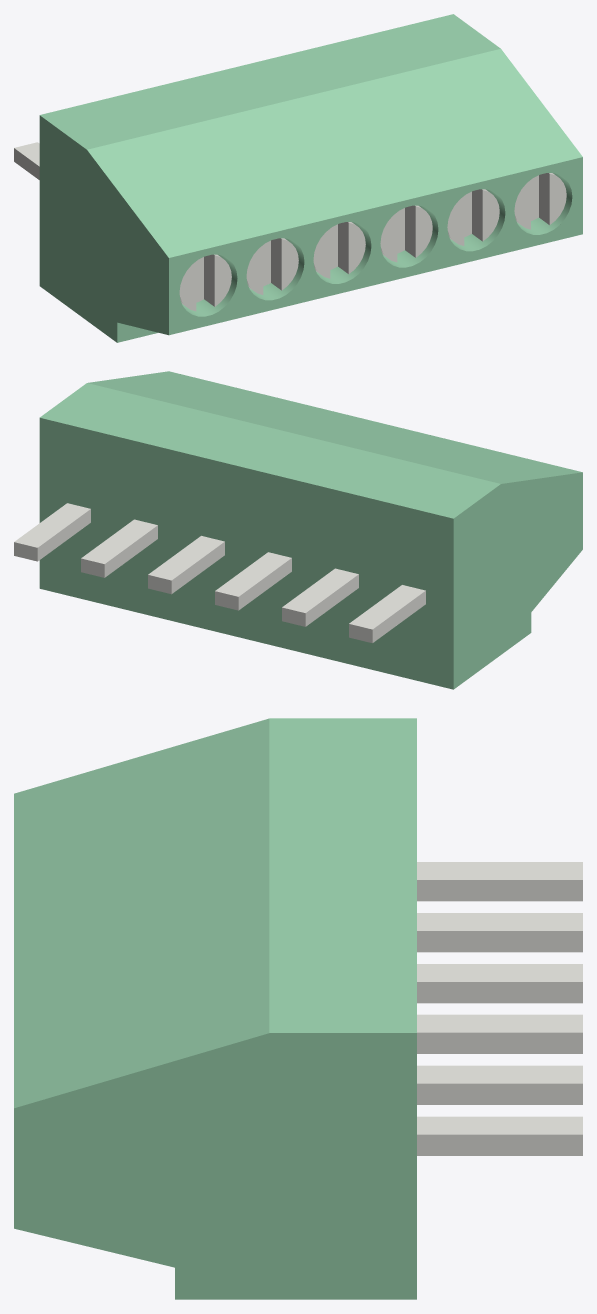
File: TerminalBlock_Phoenix_MPT-0,5-6-2.54_1x06_P2.54mm_Horizontal.glb
3 views of the same model, one above another, from view 1: azimuth 30°, elevation 25°; view 2: azimuth 150°, elevation 25°; view 3: azimuth 270°, elevation 25° (orthographic). The views are drawn at different scales.
Visible parts, largest first — view 1: Shape_IndexedFaceSet.056, Shape_IndexedFaceSet.004, Shape_IndexedFaceSet.002, Shape_IndexedFaceSet.055, Shape_IndexedFaceSet.088, Shape_IndexedFaceSet.091, Shape_IndexedFaceSet.087, Shape_IndexedFaceSet.092, Shape_IndexedFaceSet.089, Shape_IndexedFaceSet.090, Shape_IndexedFaceSet.183, Shape_IndexedFaceSet.188 (+17 smaller); view 2: Shape_IndexedFaceSet, Shape_IndexedFaceSet.004, Shape_IndexedFaceSet.002, Shape_IndexedFaceSet.056, Shape_IndexedFaceSet.023, Shape_IndexedFaceSet.007, Shape_IndexedFaceSet.011, Shape_IndexedFaceSet.019, Shape_IndexedFaceSet.015, Shape_IndexedFaceSet.027, Shape_IndexedFaceSet.008, Shape_IndexedFaceSet.020 (+4 smaller); view 3: Shape_IndexedFaceSet.003, Shape_IndexedFaceSet.056, Shape_IndexedFaceSet.004, Shape_IndexedFaceSet.006, Shape_IndexedFaceSet.010, Shape_IndexedFaceSet.014, Shape_IndexedFaceSet.018, Shape_IndexedFaceSet.022, Shape_IndexedFaceSet.026, Shape_IndexedFaceSet.007, Shape_IndexedFaceSet.023, Shape_IndexedFaceSet.027 (+3 smaller).
Part boxes in pixels (bbox=[...]): Shape_IndexedFaceSet.056: bbox=[87, 49, 582, 257]; Shape_IndexedFaceSet.004: bbox=[40, 14, 500, 149]; Shape_IndexedFaceSet.002: bbox=[39, 115, 168, 342]; Shape_IndexedFaceSet.055: bbox=[169, 157, 582, 335]; Shape_IndexedFaceSet.088: bbox=[249, 238, 304, 300]; Shape_IndexedFaceSet.091: bbox=[450, 189, 505, 251]; Shape_IndexedFaceSet.087: bbox=[182, 254, 237, 316]; Shape_IndexedFaceSet.092: bbox=[383, 205, 438, 267]; Shape_IndexedFaceSet.089: bbox=[316, 222, 371, 283]; Shape_IndexedFaceSet.090: bbox=[517, 173, 572, 234]; Shape_IndexedFaceSet.183: bbox=[214, 255, 231, 306]; Shape_IndexedFaceSet.188: bbox=[281, 239, 298, 290]; Shape_IndexedFaceSet: bbox=[39, 418, 453, 689]; Shape_IndexedFaceSet.004: bbox=[40, 383, 500, 518]; Shape_IndexedFaceSet.002: bbox=[453, 472, 582, 689]; Shape_IndexedFaceSet.056: bbox=[88, 371, 581, 483]; Shape_IndexedFaceSet.023: bbox=[14, 503, 90, 547]; Shape_IndexedFaceSet.007: bbox=[148, 536, 224, 580]; Shape_IndexedFaceSet.011: bbox=[215, 552, 291, 596]; Shape_IndexedFaceSet.019: bbox=[349, 585, 425, 629]; Shape_IndexedFaceSet.015: bbox=[282, 568, 358, 612]; Shape_IndexedFaceSet.027: bbox=[81, 519, 157, 563]; Shape_IndexedFaceSet.008: bbox=[171, 542, 224, 593]; Shape_IndexedFaceSet.020: bbox=[372, 591, 425, 642]; Shape_IndexedFaceSet.003: bbox=[14, 1033, 416, 1299]; Shape_IndexedFaceSet.056: bbox=[14, 718, 269, 1108]; Shape_IndexedFaceSet.004: bbox=[269, 718, 416, 1032]; Shape_IndexedFaceSet.006: bbox=[417, 1032, 582, 1053]; Shape_IndexedFaceSet.010: bbox=[417, 982, 582, 1003]; Shape_IndexedFaceSet.014: bbox=[417, 931, 582, 952]; Shape_IndexedFaceSet.018: bbox=[417, 880, 582, 901]; Shape_IndexedFaceSet.022: bbox=[417, 1134, 582, 1155]; Shape_IndexedFaceSet.026: bbox=[417, 1083, 582, 1104]; Shape_IndexedFaceSet.007: bbox=[417, 1014, 582, 1032]; Shape_IndexedFaceSet.023: bbox=[417, 1116, 582, 1134]; Shape_IndexedFaceSet.027: bbox=[417, 1065, 582, 1083].
Bounding box in the file's own units: 6.18 × 2.44 × 4.72.
